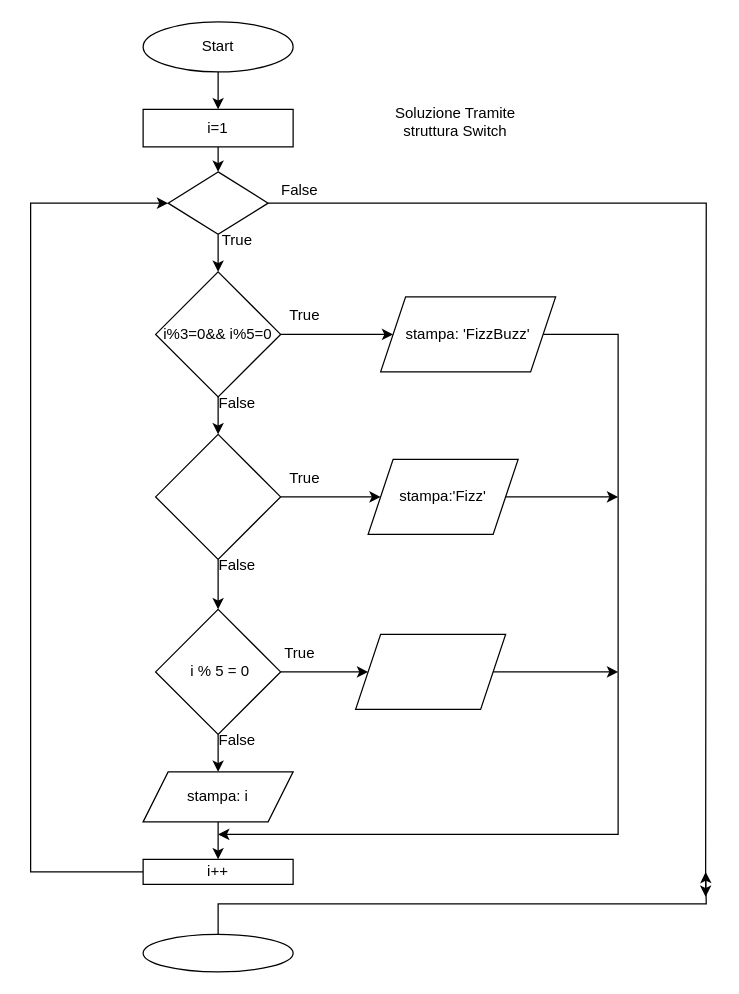
This 739x994 diagram has some shape labels left out. The shapes that lost their labels are listed below. From the top down, each one's centre as x and y in pixels, then its label:
At point (217, 202): "i<=100".
At point (217, 496): "i % 3 = 0".
At point (430, 671): "stampa:'Buzz'".
At point (217, 952): "End".
